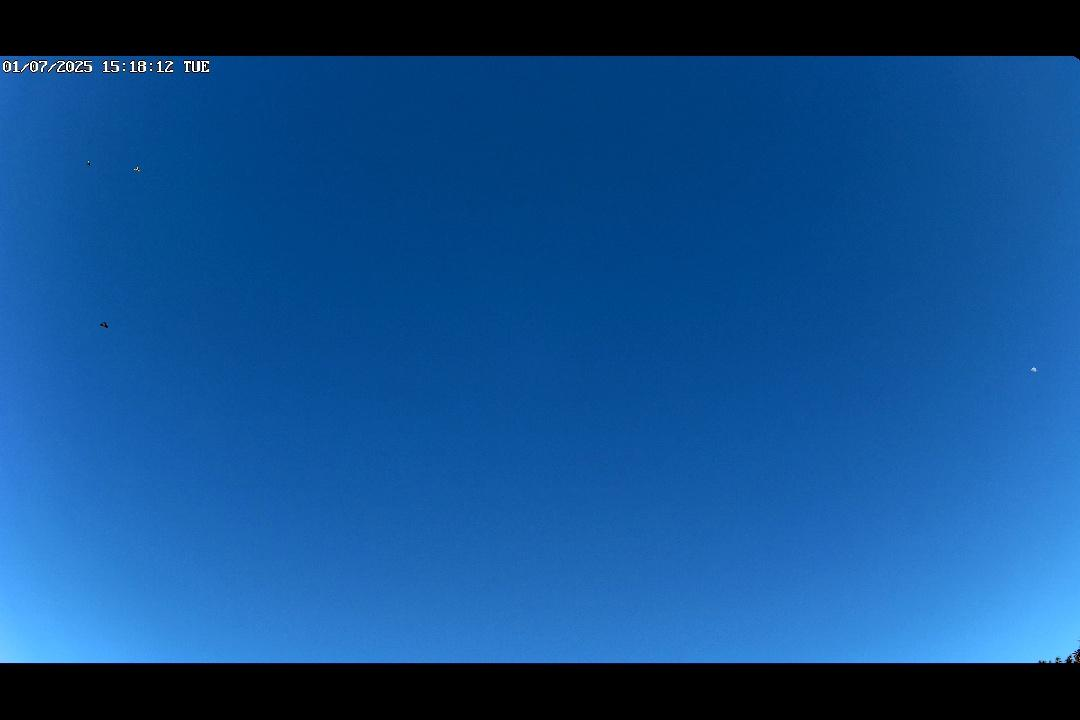WildLife: (93, 319, 116, 334), (130, 162, 146, 175), (84, 155, 97, 167)
